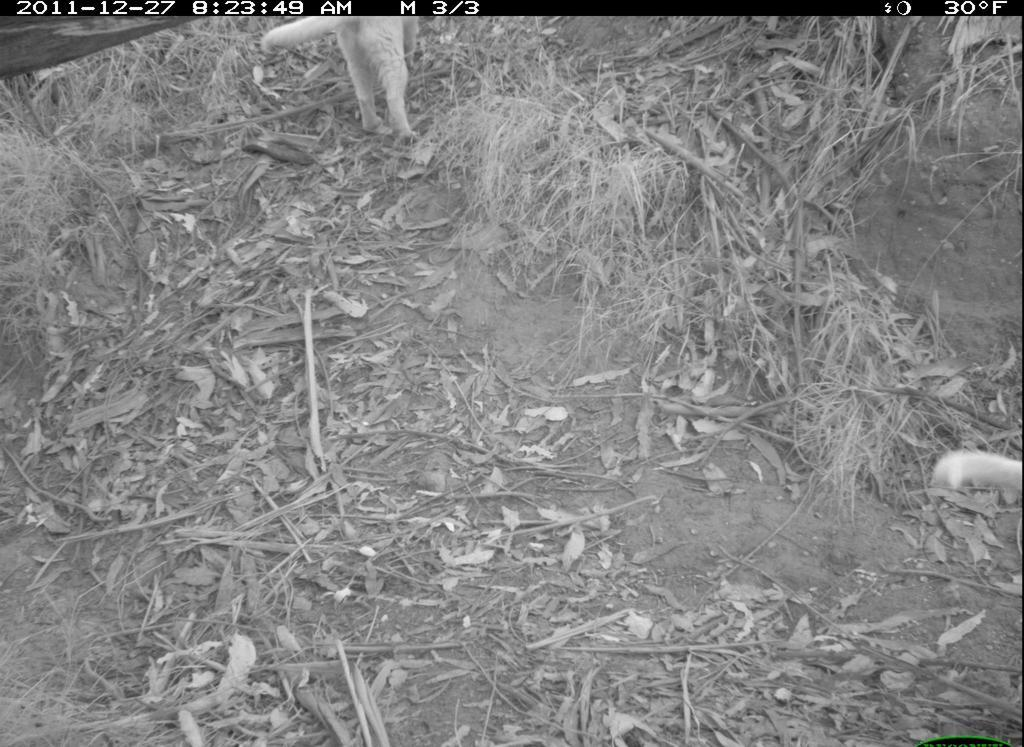dog: (260, 13, 427, 136), (926, 440, 1021, 530)
